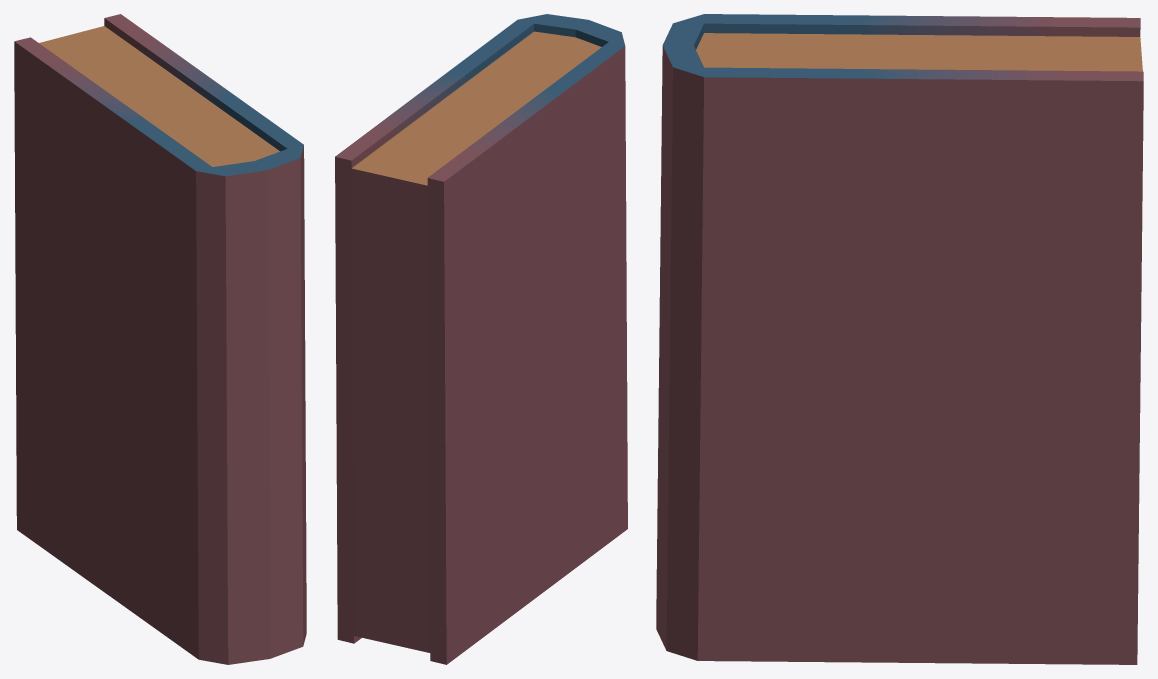
The model's file is Libro_5.fbx.
3 views of the same model, side by side, from view 1: azimuth 30°, elevation 25°; view 2: azimuth 150°, elevation 25°; view 3: azimuth 270°, elevation 25° (orthographic). The views are drawn at different scales.
Parts seen in each view (by area): view 1: Cube.022; view 2: Cube.022; view 3: Cube.022.
Boxes of the visible parts, left/top/right/bottom form: Cube.022: left=14, top=14, right=306, bottom=664; Cube.022: left=335, top=14, right=627, bottom=664; Cube.022: left=656, top=14, right=1143, bottom=664.
Size of the model in its own units: 8.4 by 36.43 by 27.37.
